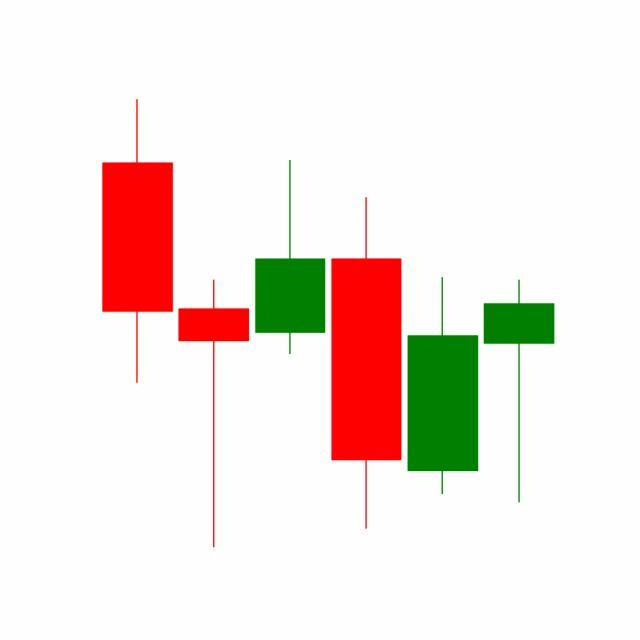Hikkake Pattern: (175, 156, 555, 549)
